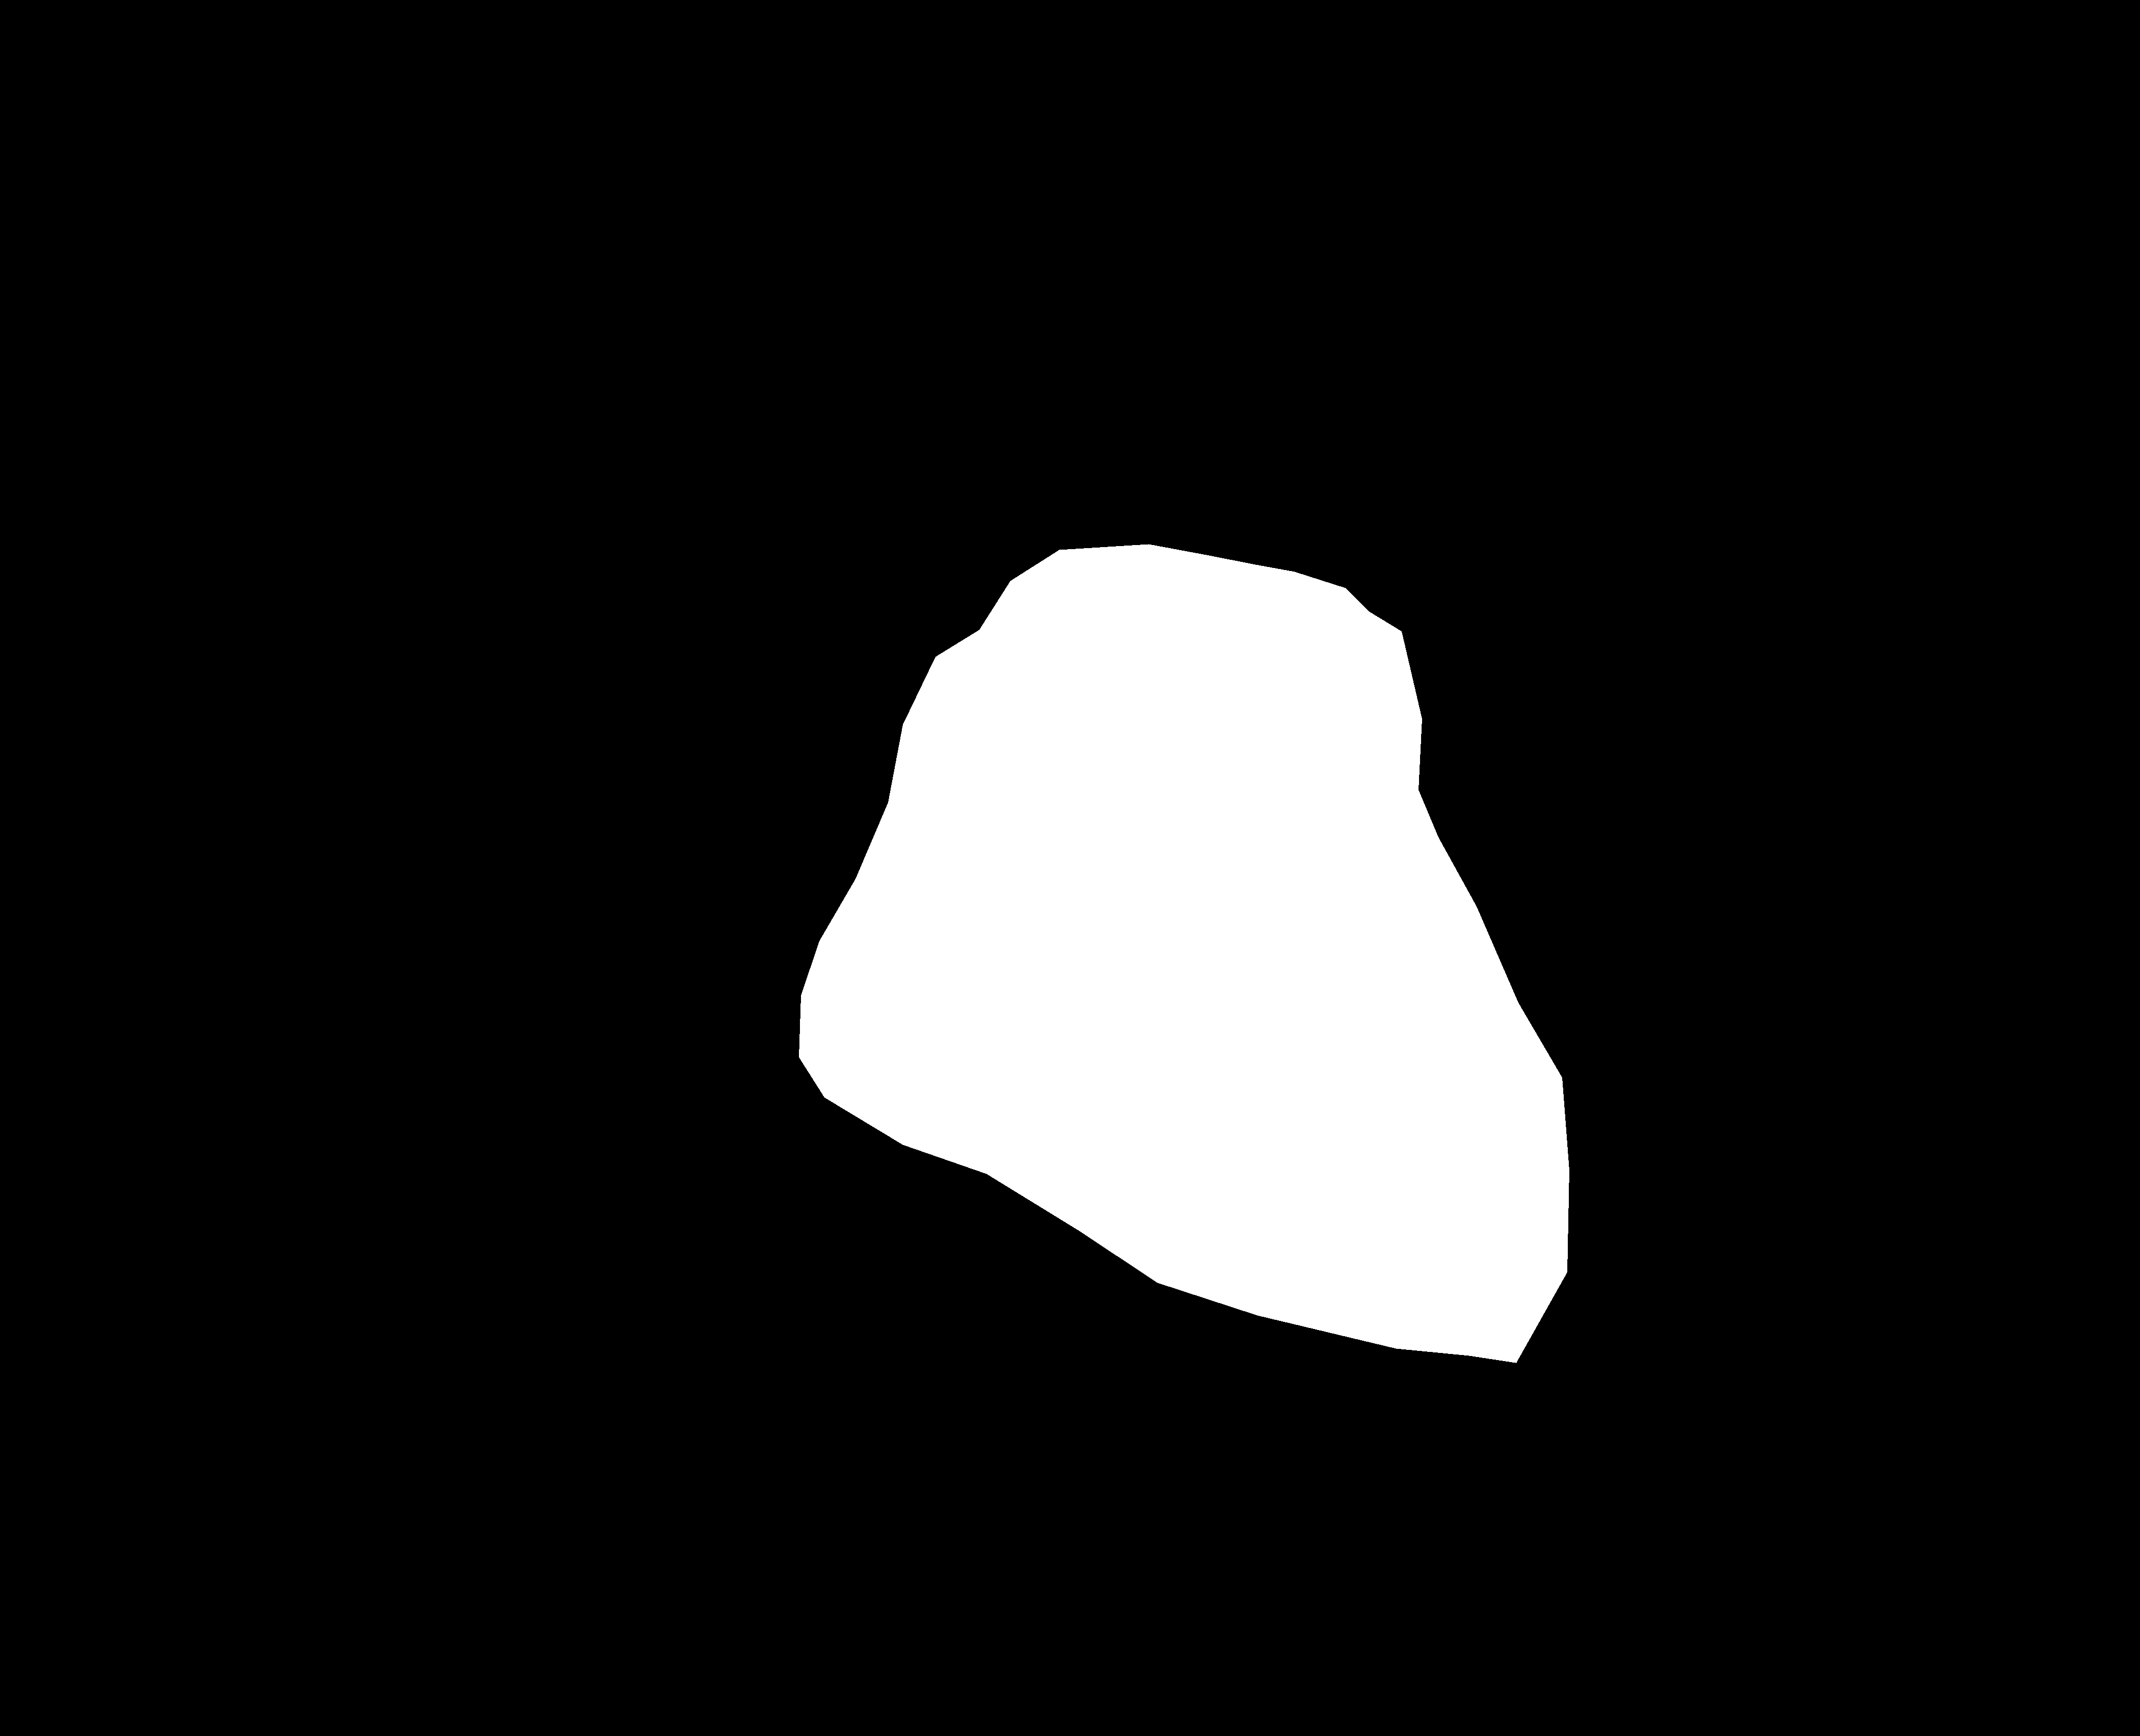heart: (799, 544, 1570, 1362)
left_lung: (455, 57, 1111, 1075)
right_lung: (1307, 51, 1989, 1582)
